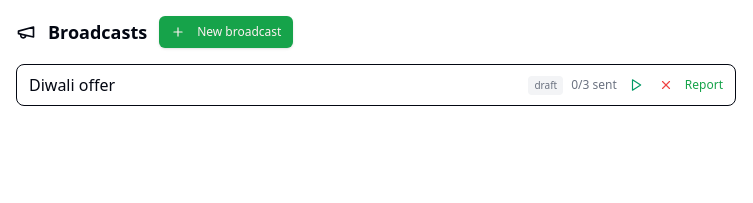
Test case: BroadcastsPage › shows the delivery report on demand
Click the button "Report": coordinates (704, 85) [685,77,723,93]
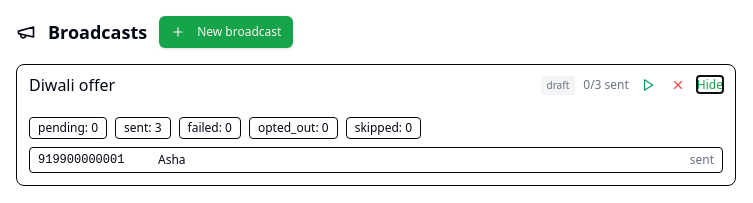
expect the element with test id "broadcast-report" shows "sent: 3": met, box [17,105,735,185]
expect the list item with test id "recipient-row" shows "Asha": met, box [158,151,186,168]
